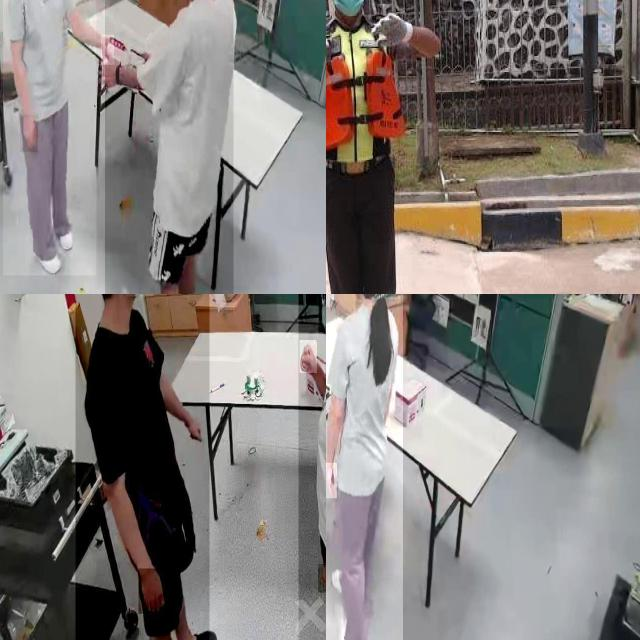face_mask: (318, 294, 326, 331)
hand_noglove: (138, 568, 166, 614), (99, 56, 121, 91), (20, 114, 38, 152), (300, 340, 318, 374), (187, 417, 204, 443), (101, 34, 115, 64), (326, 462, 337, 499), (317, 563, 326, 593)
person: (75, 294, 210, 640), (105, 0, 234, 294), (326, 0, 449, 294), (326, 294, 403, 640), (3, 0, 97, 276), (298, 294, 326, 640)
shoes: (27, 232, 61, 277), (174, 627, 217, 640)
vest: (326, 16, 404, 169)
